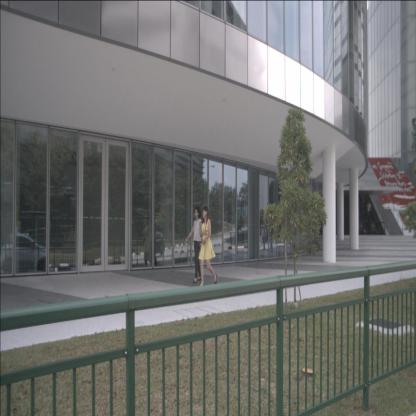human-pedestrian-adult: (198, 206, 218, 289), (183, 206, 202, 282), (143, 215, 158, 269), (142, 219, 154, 270), (366, 200, 372, 225), (360, 195, 366, 217)
vehicle-car: (0, 232, 48, 272), (144, 232, 165, 256)
